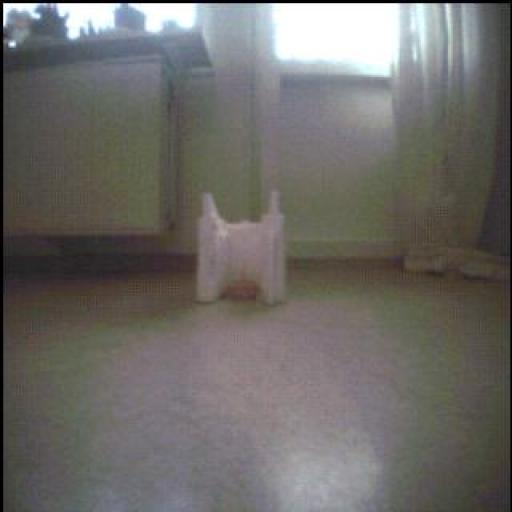Basket: (224, 263, 264, 305)
